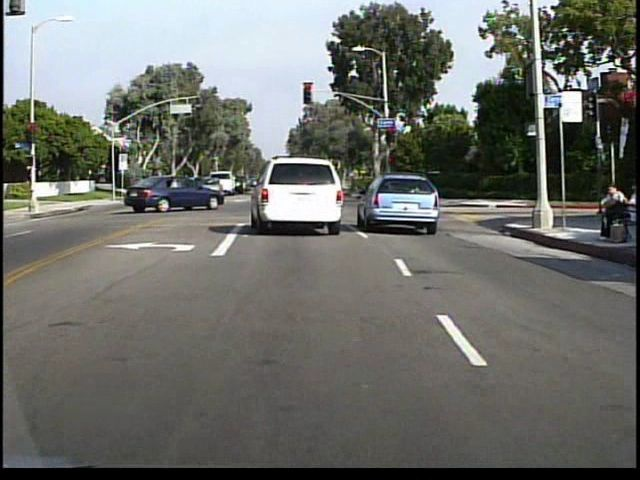person: (594, 179, 628, 243)
